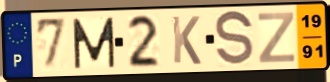2: (126, 13, 163, 71)
7: (35, 16, 70, 73)
K: (169, 14, 203, 67)
M: (70, 16, 117, 71)
S: (213, 9, 256, 70)
Z: (257, 10, 297, 65)
